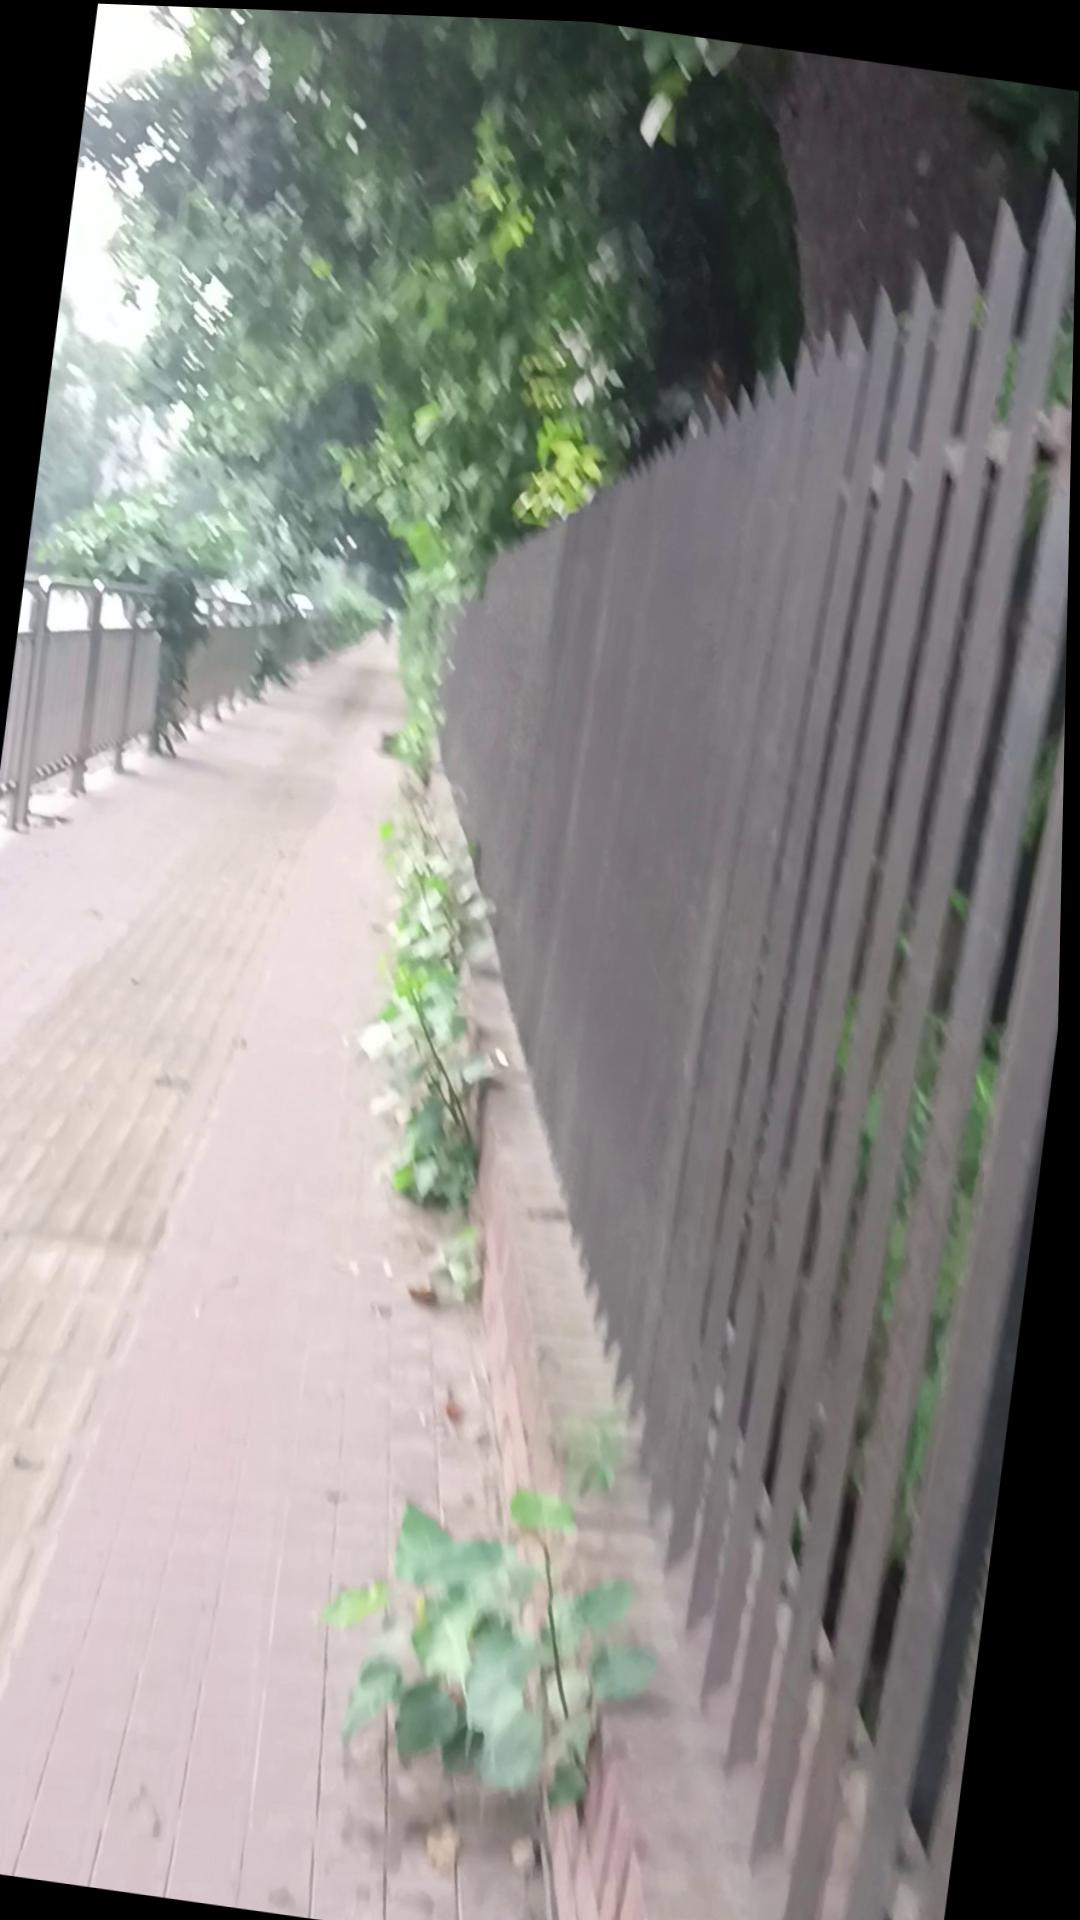Crosswalk: (273, 731, 819, 1920), (0, 560, 401, 1905)
Motorcycle: (0, 564, 177, 849)
Muddy road: (136, 562, 220, 758)
Potted-plant: (0, 555, 795, 1920)
